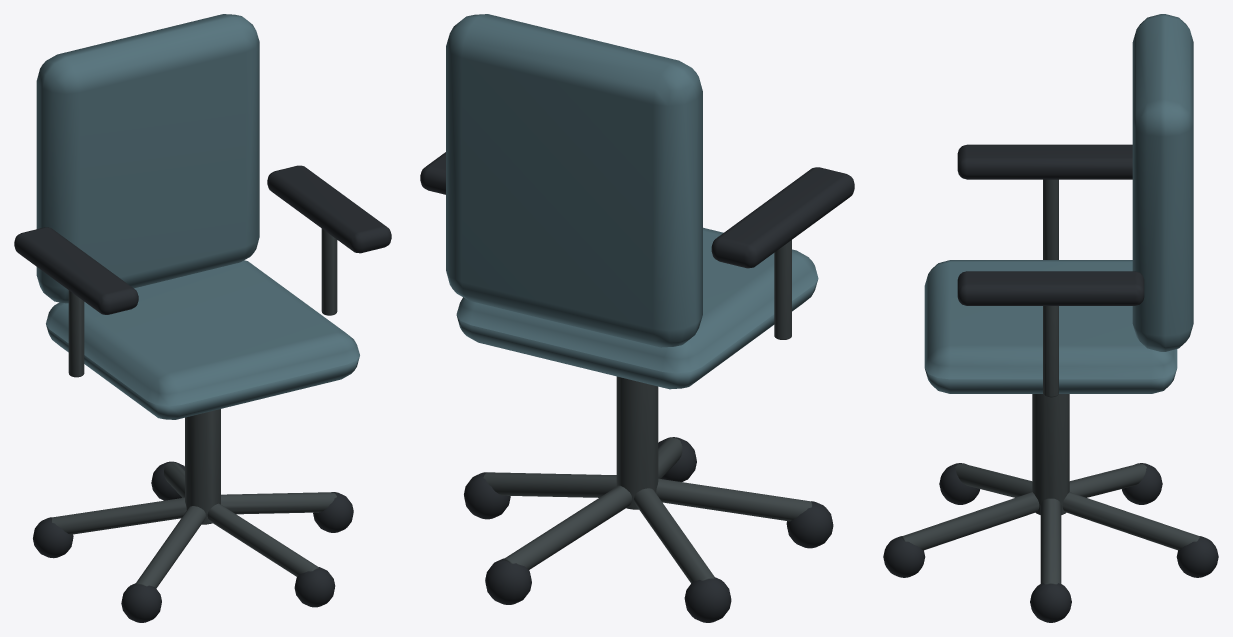
The model's file is P_OfficeChair.fbx.
3 renders of one model, left to right at view 1: azimuth 30°, elevation 25°; view 2: azimuth 150°, elevation 25°; view 3: azimuth 270°, elevation 25°, orthographic. The views are drawn at different scales.
Visible parts, largest first — view 1: P_OfficeChair; view 2: P_OfficeChair; view 3: P_OfficeChair.
Boxes of the visible parts, bbox=[...] form: P_OfficeChair: bbox=[14, 14, 391, 622]; P_OfficeChair: bbox=[420, 14, 854, 622]; P_OfficeChair: bbox=[883, 14, 1218, 622].
Bounding box in the file's own units: 0.745 × 1.18 × 0.7177.
